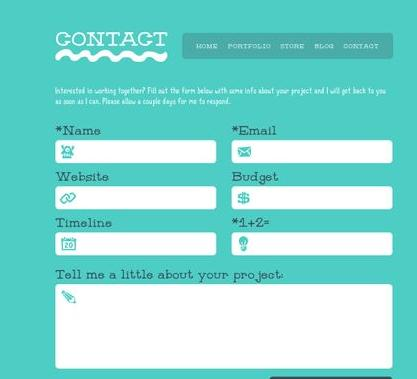field: (54, 281, 392, 370), (52, 228, 219, 258), (54, 182, 219, 212), (229, 228, 393, 258), (231, 137, 394, 167), (52, 137, 219, 166), (231, 183, 394, 211)
field_with_label: (53, 268, 396, 372), (50, 124, 221, 169), (229, 124, 396, 169), (52, 171, 220, 215), (227, 217, 395, 260), (229, 171, 396, 213)
